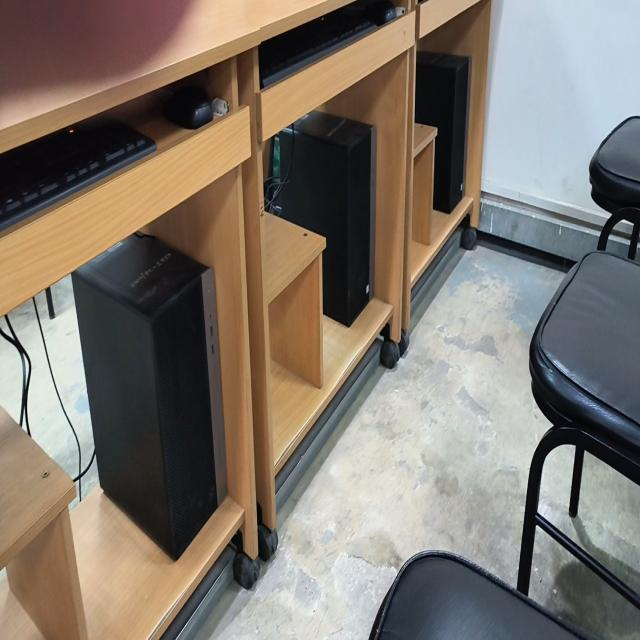Chair: (518, 251, 640, 607), (369, 551, 592, 639), (589, 116, 640, 259)
Cpu: (72, 233, 227, 560), (265, 111, 376, 326), (415, 50, 471, 213)
Keyboard: (0, 121, 156, 232), (259, 0, 377, 89)
Mouse: (164, 85, 213, 129), (366, 0, 406, 26)
